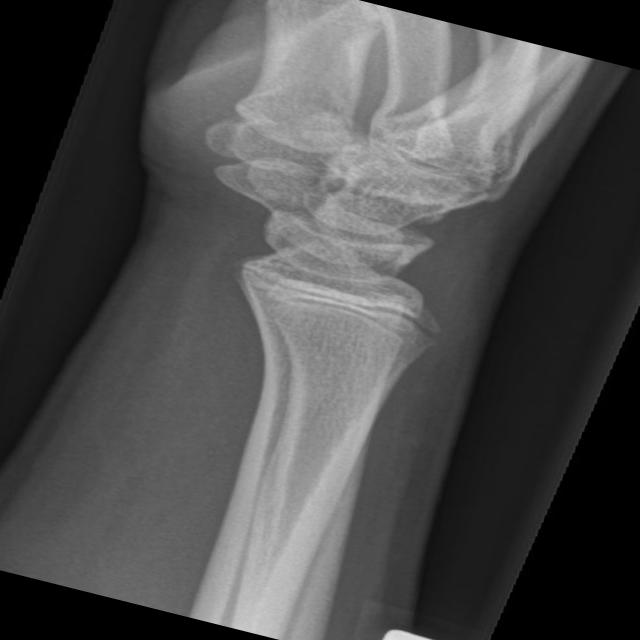fracture: (215, 255, 464, 356)
